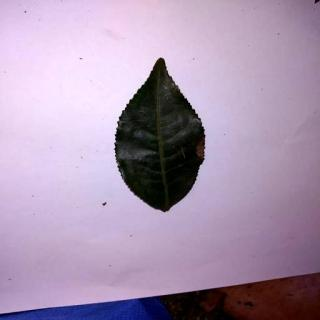Anthracnose: (115, 59, 208, 212)
